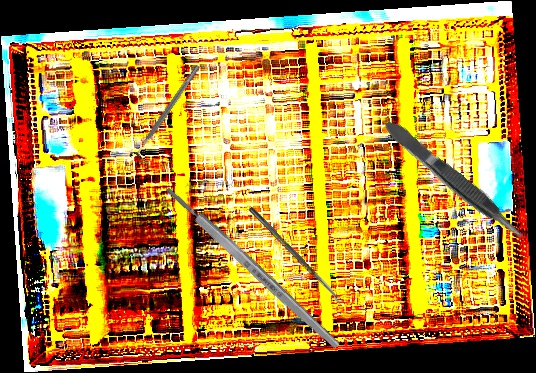Fixation Ring: (127, 61, 206, 165)
Scalpel Handle: (163, 183, 342, 352)
Surgical Spoon: (247, 206, 345, 306)
Tissue Forceps: (380, 113, 531, 249)
